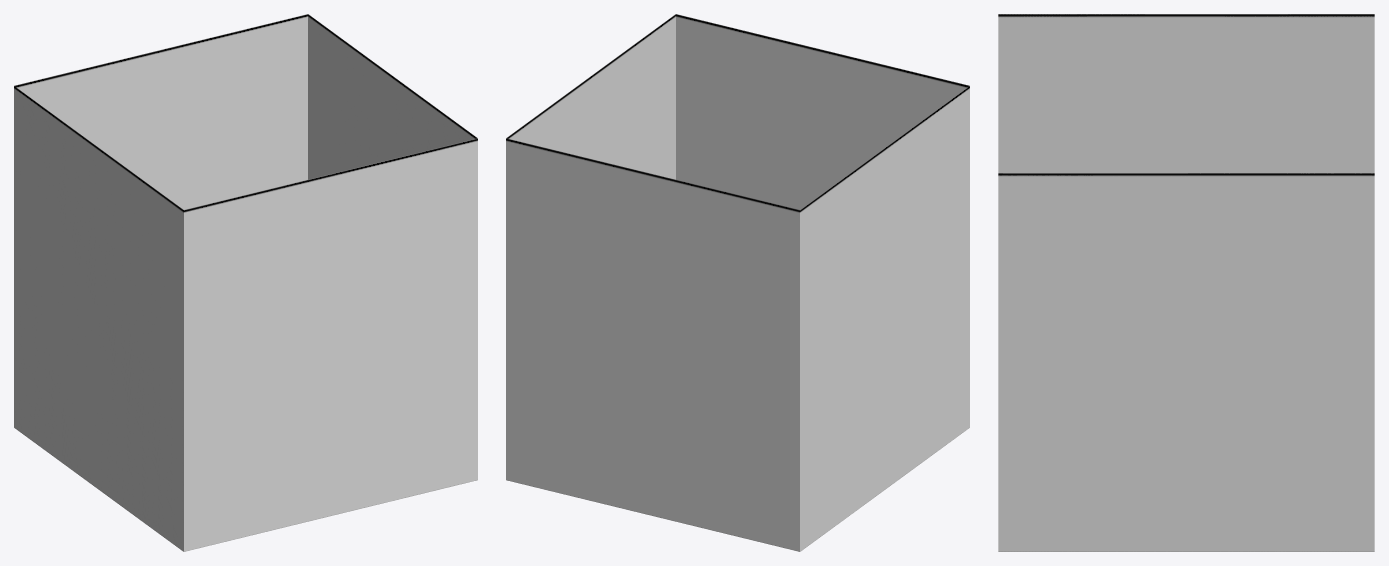
The model's file is exit.obj.
The picture shows the model from 3 angles, left to right: view 1: azimuth 30°, elevation 25°; view 2: azimuth 150°, elevation 25°; view 3: azimuth 270°, elevation 25°; orthographic projection. The views are drawn at different scales.
Visible parts, largest first — view 1: Cube; view 2: Cube; view 3: Cube.
Part boxes in pixels (x1=…): Cube: x1=14, y1=14, x2=477, y2=551; Cube: x1=506, y1=14, x2=969, y2=551; Cube: x1=998, y1=14, x2=1374, y2=551.
Bounding box in the file's own units: 0.9 × 1 × 0.9.
Materials: 1 (1 with a texture image).
